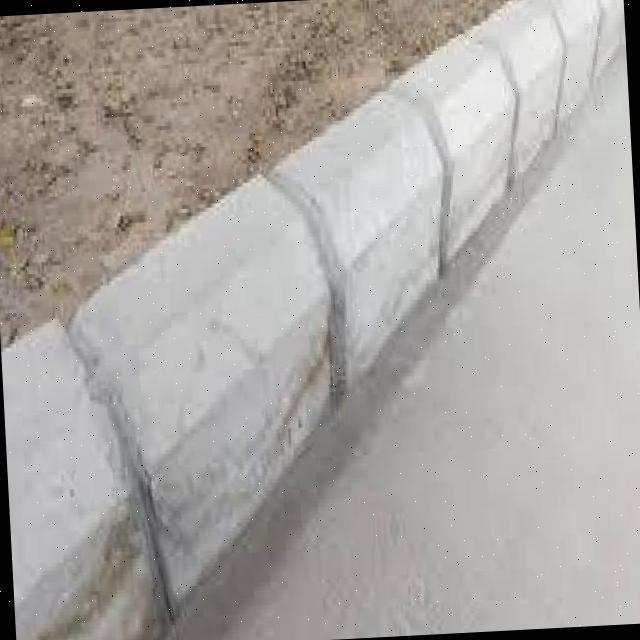curb: (1, 189, 306, 640), (203, 60, 455, 434), (419, 1, 629, 222)
